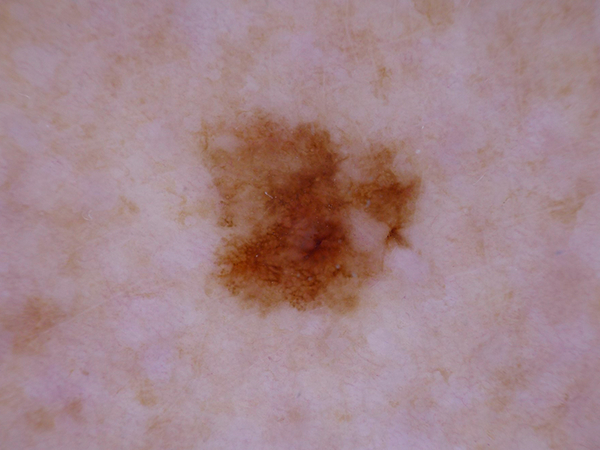Detected Lesion: (193, 111, 428, 319)
